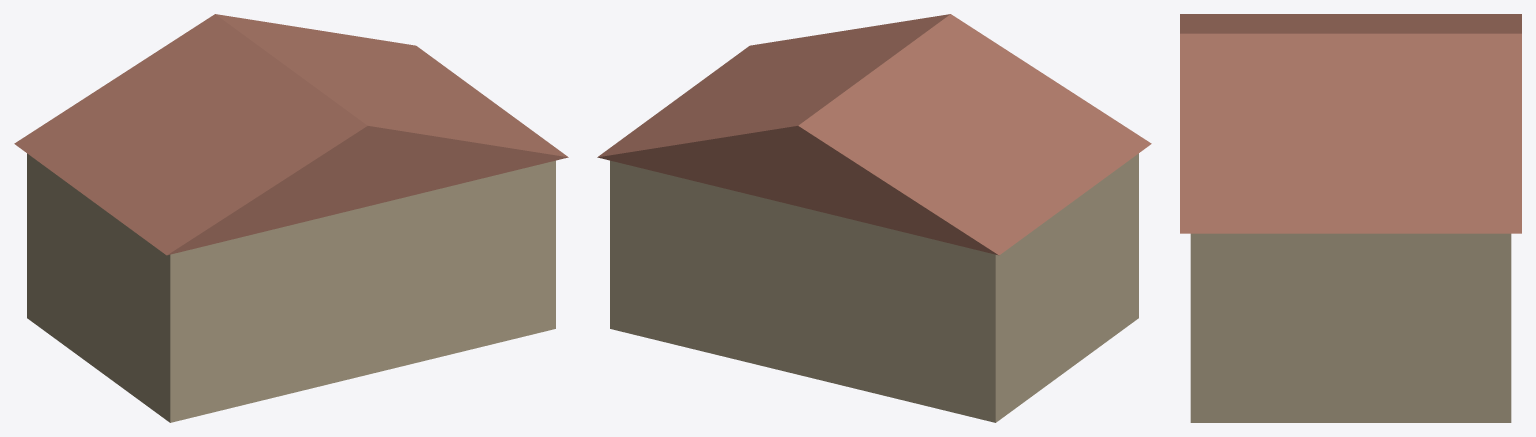
File: Building_3.glb
3 views of the same model, side by side, from view 1: azimuth 30°, elevation 25°; view 2: azimuth 150°, elevation 25°; view 3: azimuth 270°, elevation 25° (orthographic). The views are drawn at different scales.
Parts seen in each view (by area): view 1: Building_3; view 2: Building_3; view 3: Building_3.
Part boxes in pixels (bbox=[...]): Building_3: bbox=[14, 14, 568, 422]; Building_3: bbox=[597, 14, 1151, 422]; Building_3: bbox=[1180, 14, 1521, 422].
Bounding box in the file's own units: 7.3 × 4.4 × 4.8.
